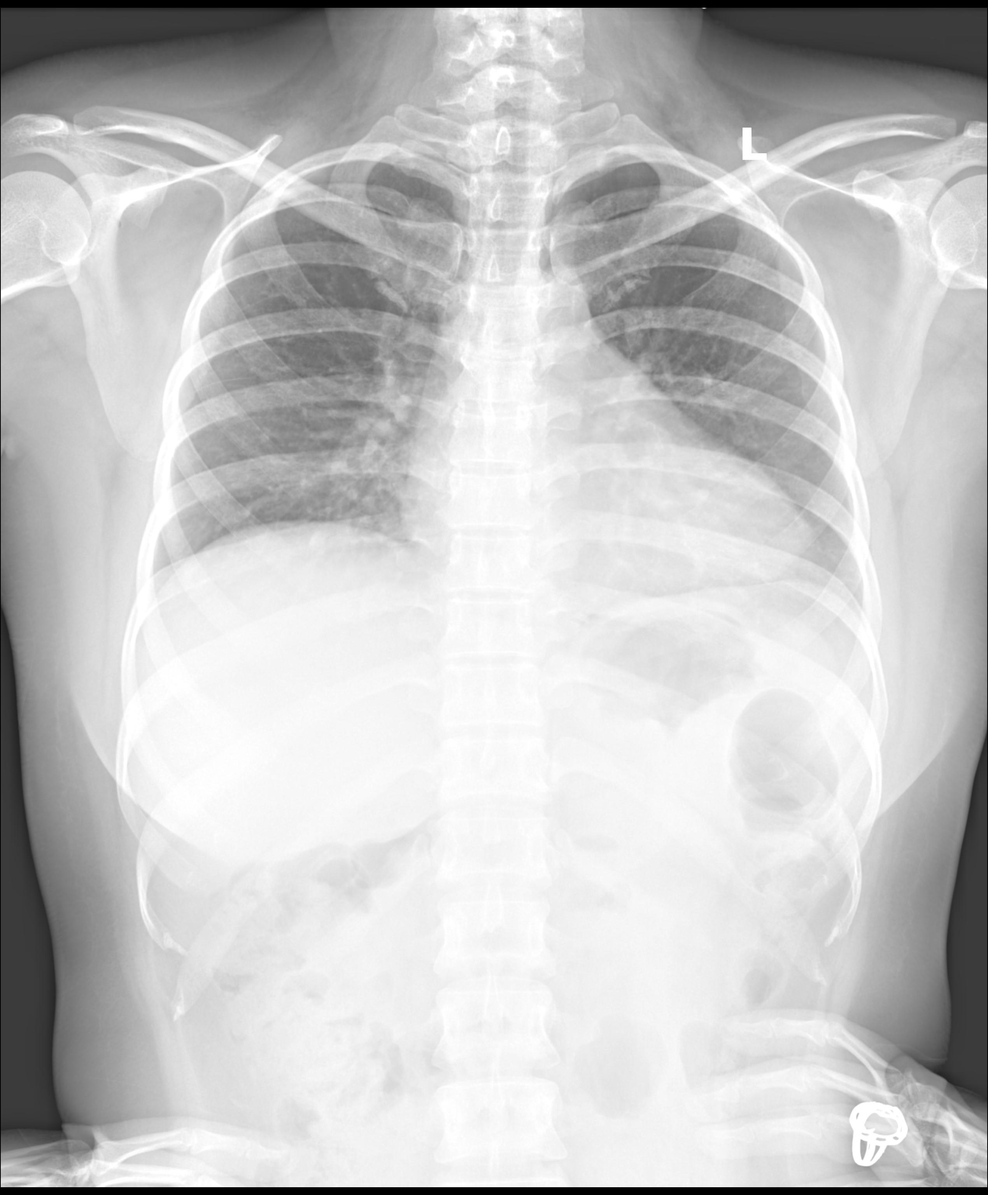Cardiomegaly: (392, 431, 816, 580)
